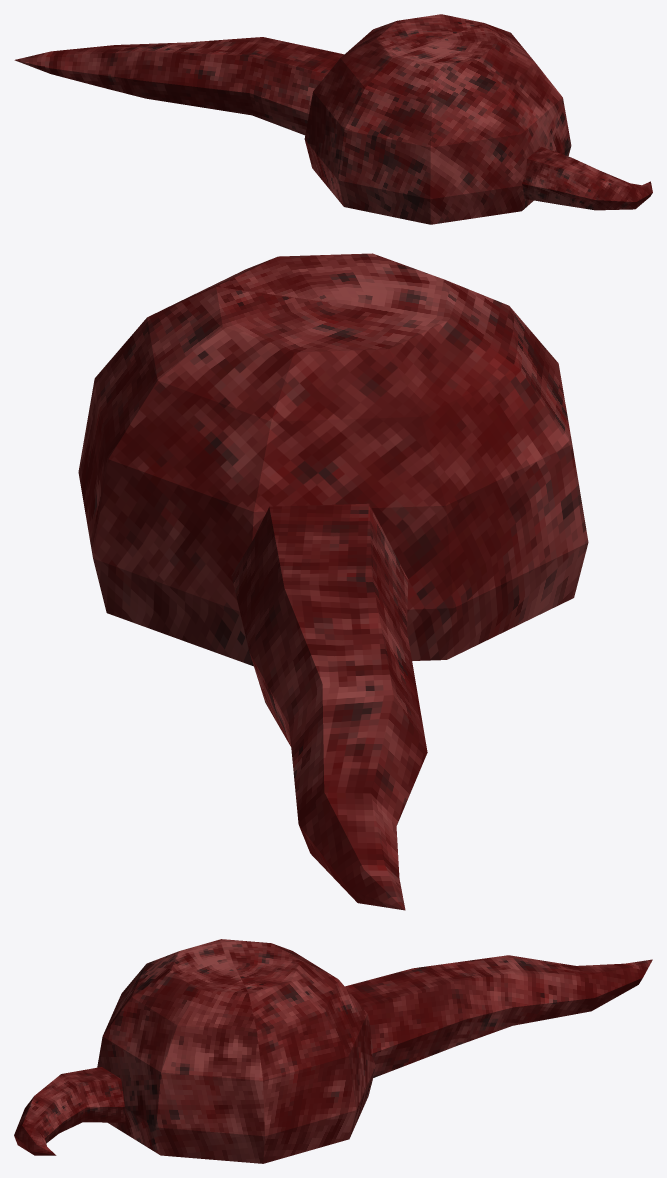
The model's file is pustule_grp_7.fbx.
The picture shows the model from 3 angles, top to bottom: view 1: azimuth 30°, elevation 25°; view 2: azimuth 150°, elevation 25°; view 3: azimuth 270°, elevation 25°; orthographic projection. The views are drawn at different scales.
Parts seen in each view (by area): view 1: bubble_3, tendril_10, tendril_11; view 2: bubble_3, tendril_10; view 3: bubble_3, tendril_10, tendril_11.
Part boxes in pixels (box(x1,y1,x2,y2)): bubble_3: box(304, 14, 571, 224); tendril_10: box(14, 37, 344, 135); tendril_11: box(522, 147, 652, 210); bubble_3: box(78, 253, 588, 666); tendril_10: box(231, 503, 427, 910); bubble_3: box(97, 939, 375, 1163); tendril_10: box(345, 955, 652, 1077); tendril_11: box(14, 1067, 125, 1155).
Size of the model in its own units: 1.11 by 0.384 by 1.58.
